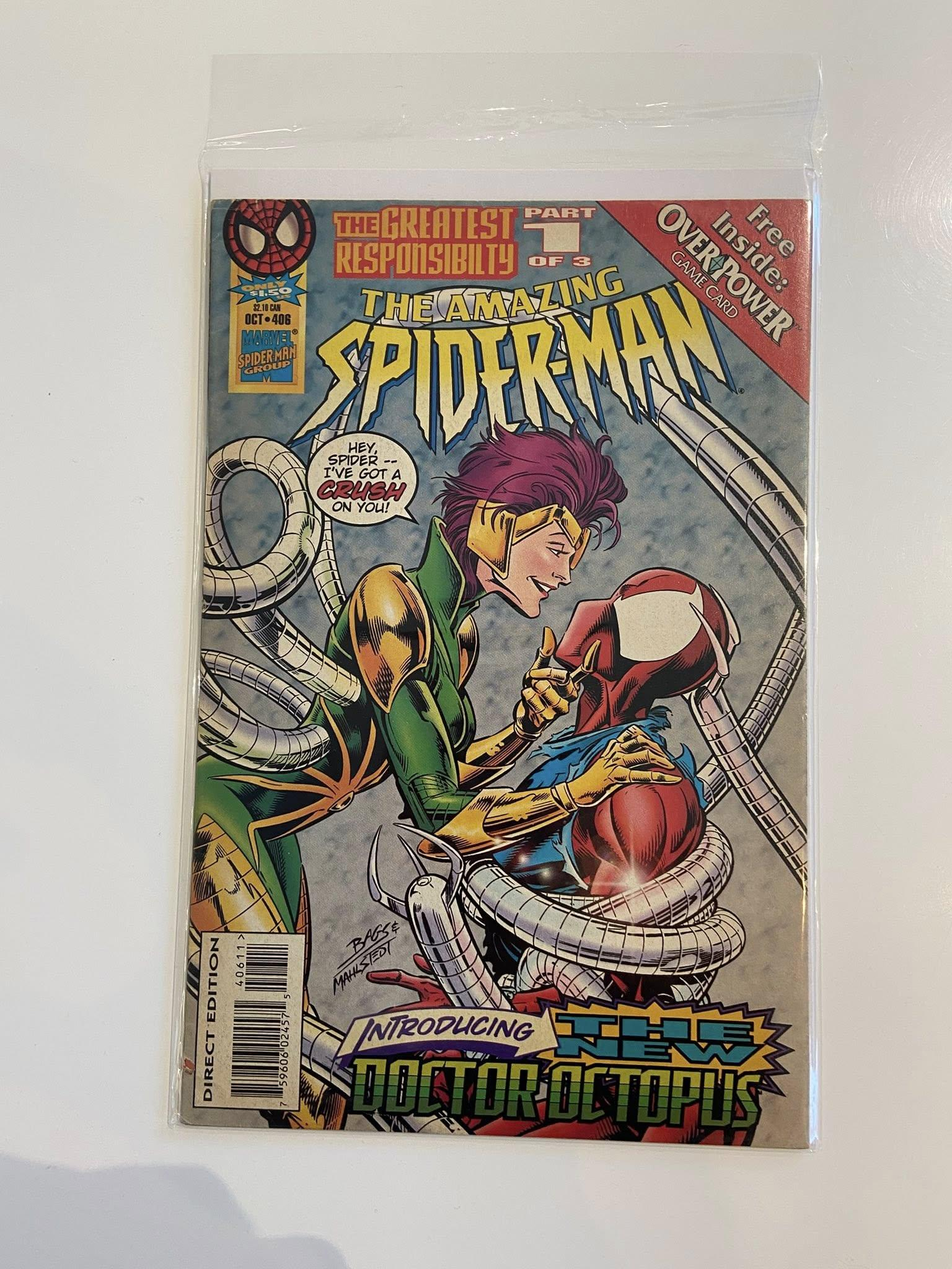comic: (179, 180, 840, 1147)
